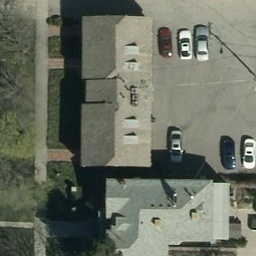car: (168, 129, 186, 165), (194, 25, 212, 60), (159, 27, 173, 58), (180, 29, 193, 59), (221, 139, 234, 167), (243, 139, 256, 167)
